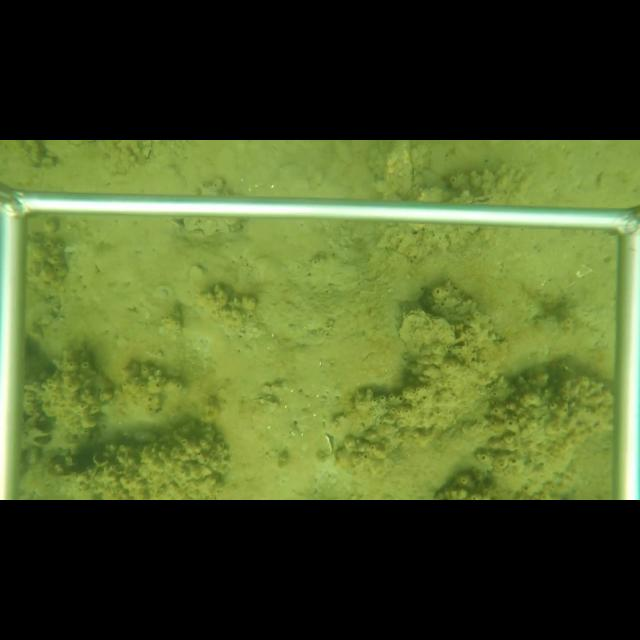Oyster-Closed: (397, 308, 457, 356), (379, 140, 421, 200)
Oyster-Open: (322, 434, 337, 455)
